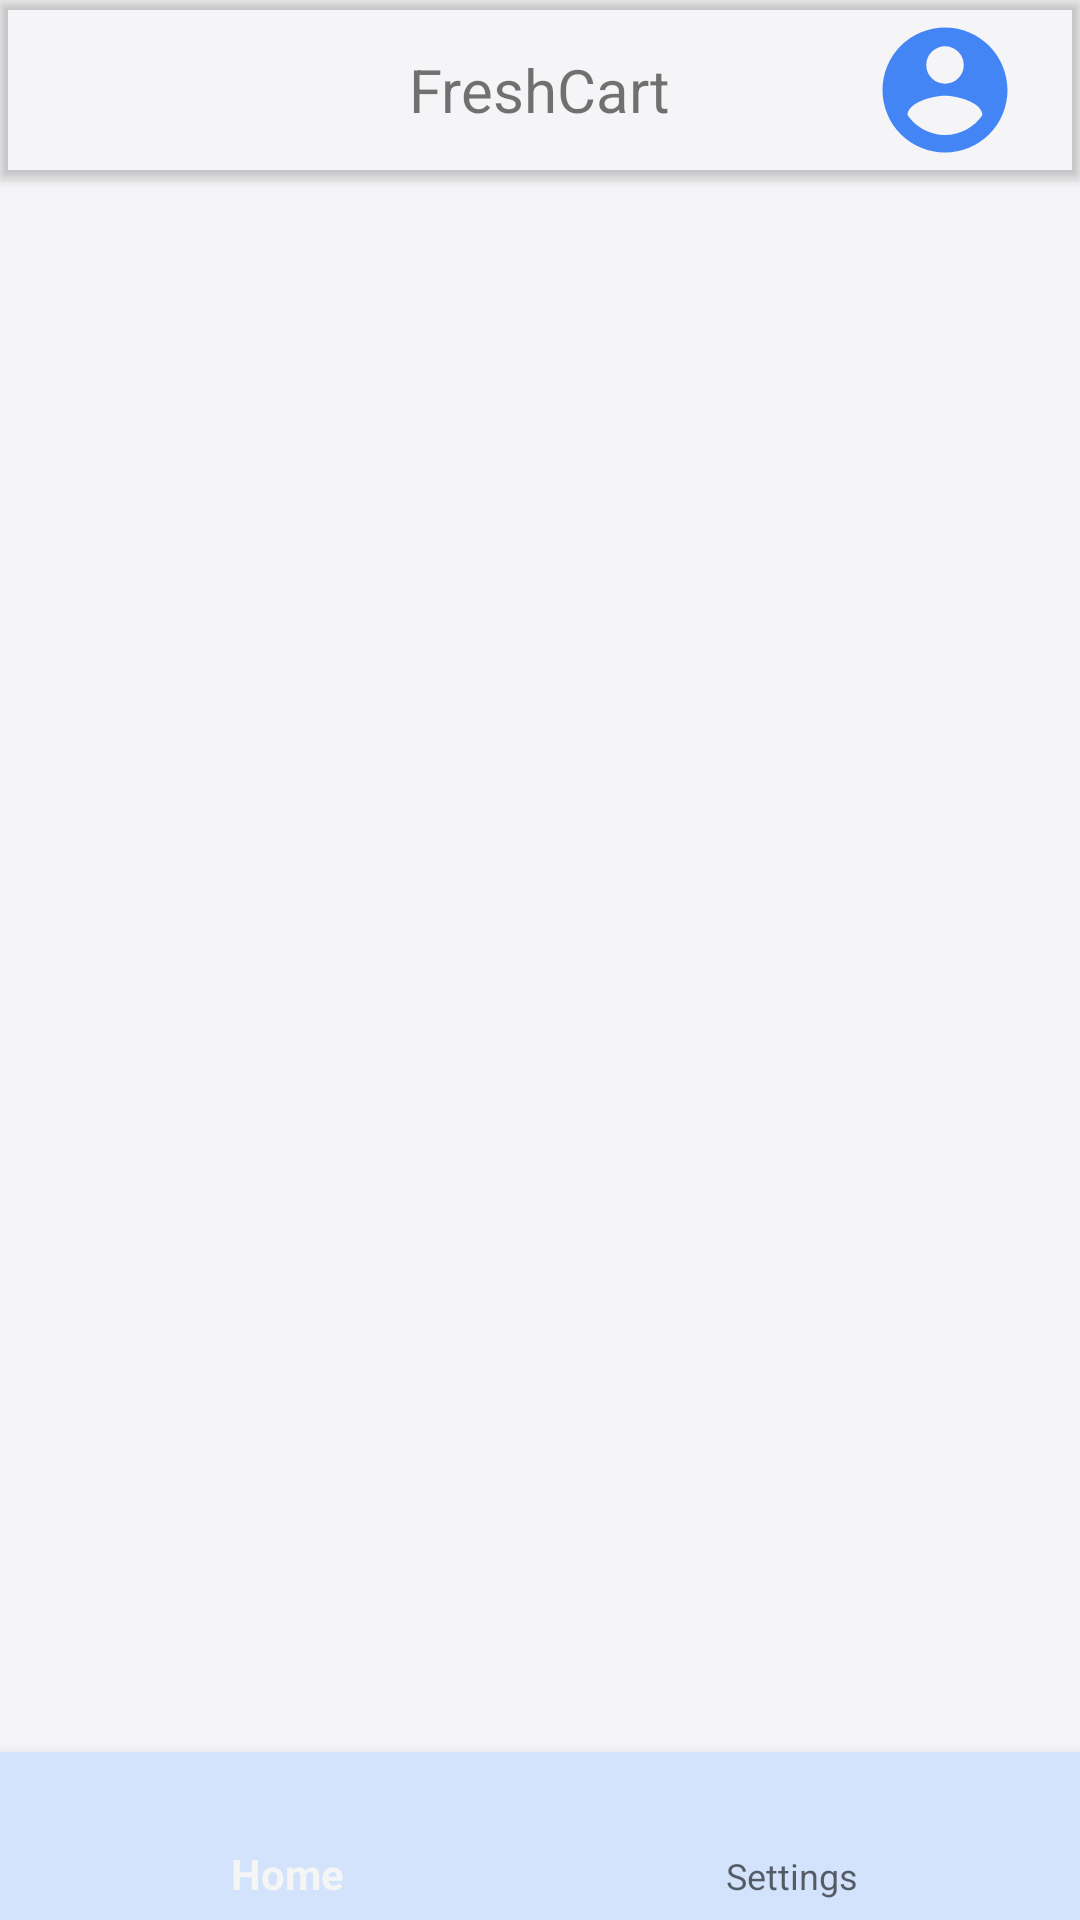

Named icons in this screenshot (1080px x 1920px) and their centers, (x,y):
profile: (945,90)
